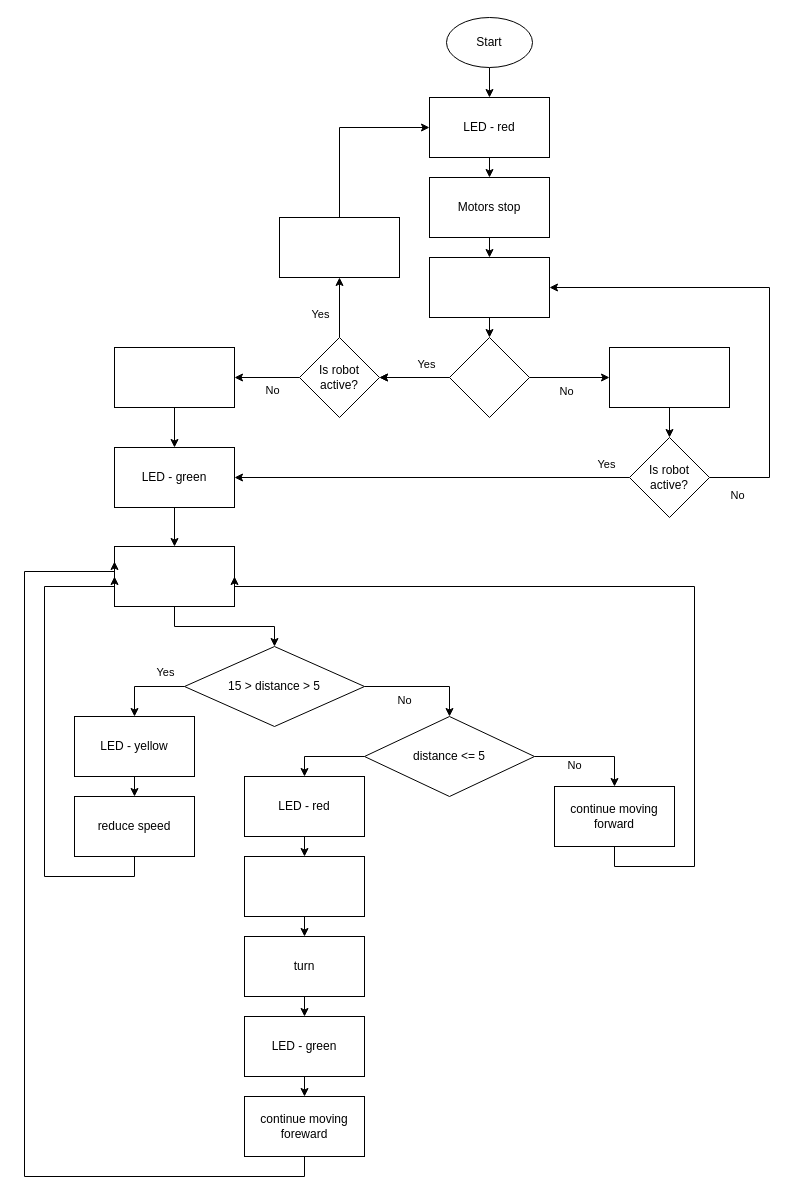
The diagram is 795 pixels wide and 1202 high, and some of its shapes have lost their labels. The shapes that lost their labels are listed below. From the top down, each one's box as (x1, y1, x2, y2) in pixels, then its label:
(278, 216, 400, 278): Change status to inactive
(428, 256, 550, 318): Waiting for card
(114, 346, 234, 408): Change status to active
(448, 336, 530, 418): Is card correct?
(608, 346, 730, 408): LED - blink red
(114, 546, 234, 606): Read distance
(244, 856, 364, 916): stop
